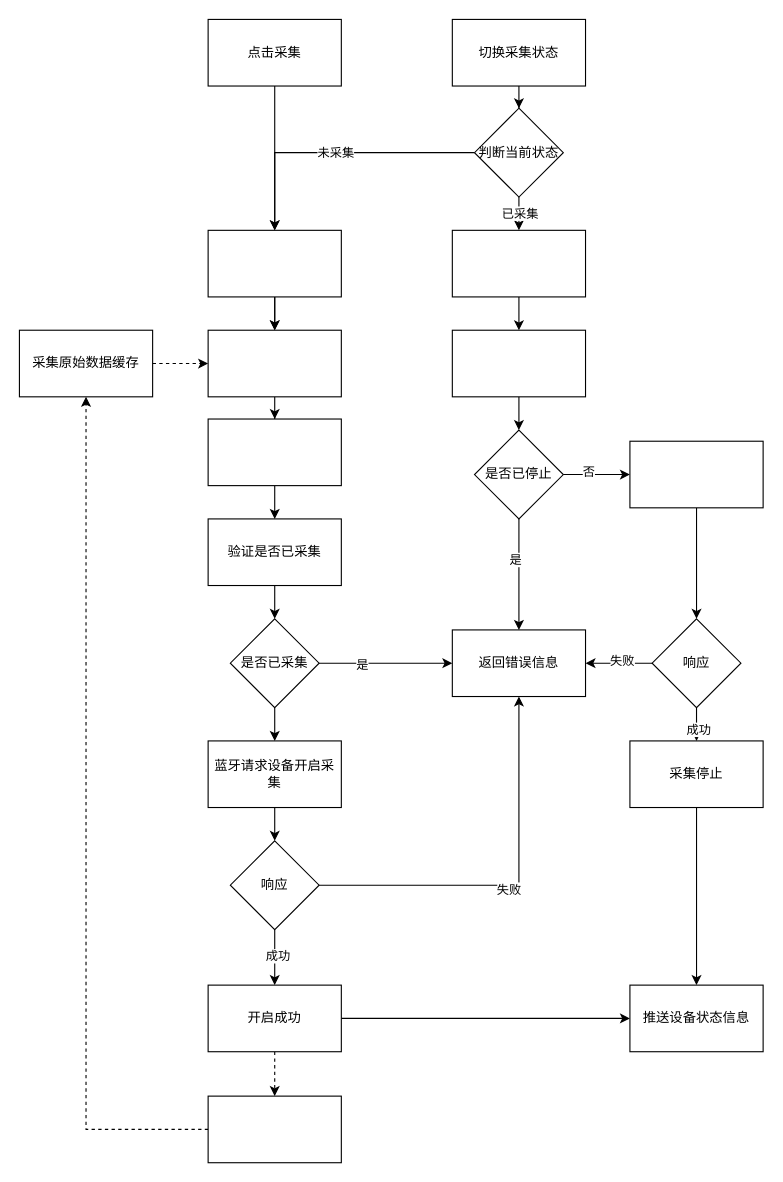
This 783x1182 diagram has some shape labels left out. Here are the shapes that lost their labels. From the top down, the centre of each, then its label:
At [274,263]: "开始采集".
At [518,263]: "结束采集".
At [274,363]: "启动滤波任务".
At [518,363]: "验证是否已停止".
At [274,452]: "启动推送任务".
At [696,474]: "蓝牙请求设备关闭采集".
At [274,1129]: "设备推送数据".
